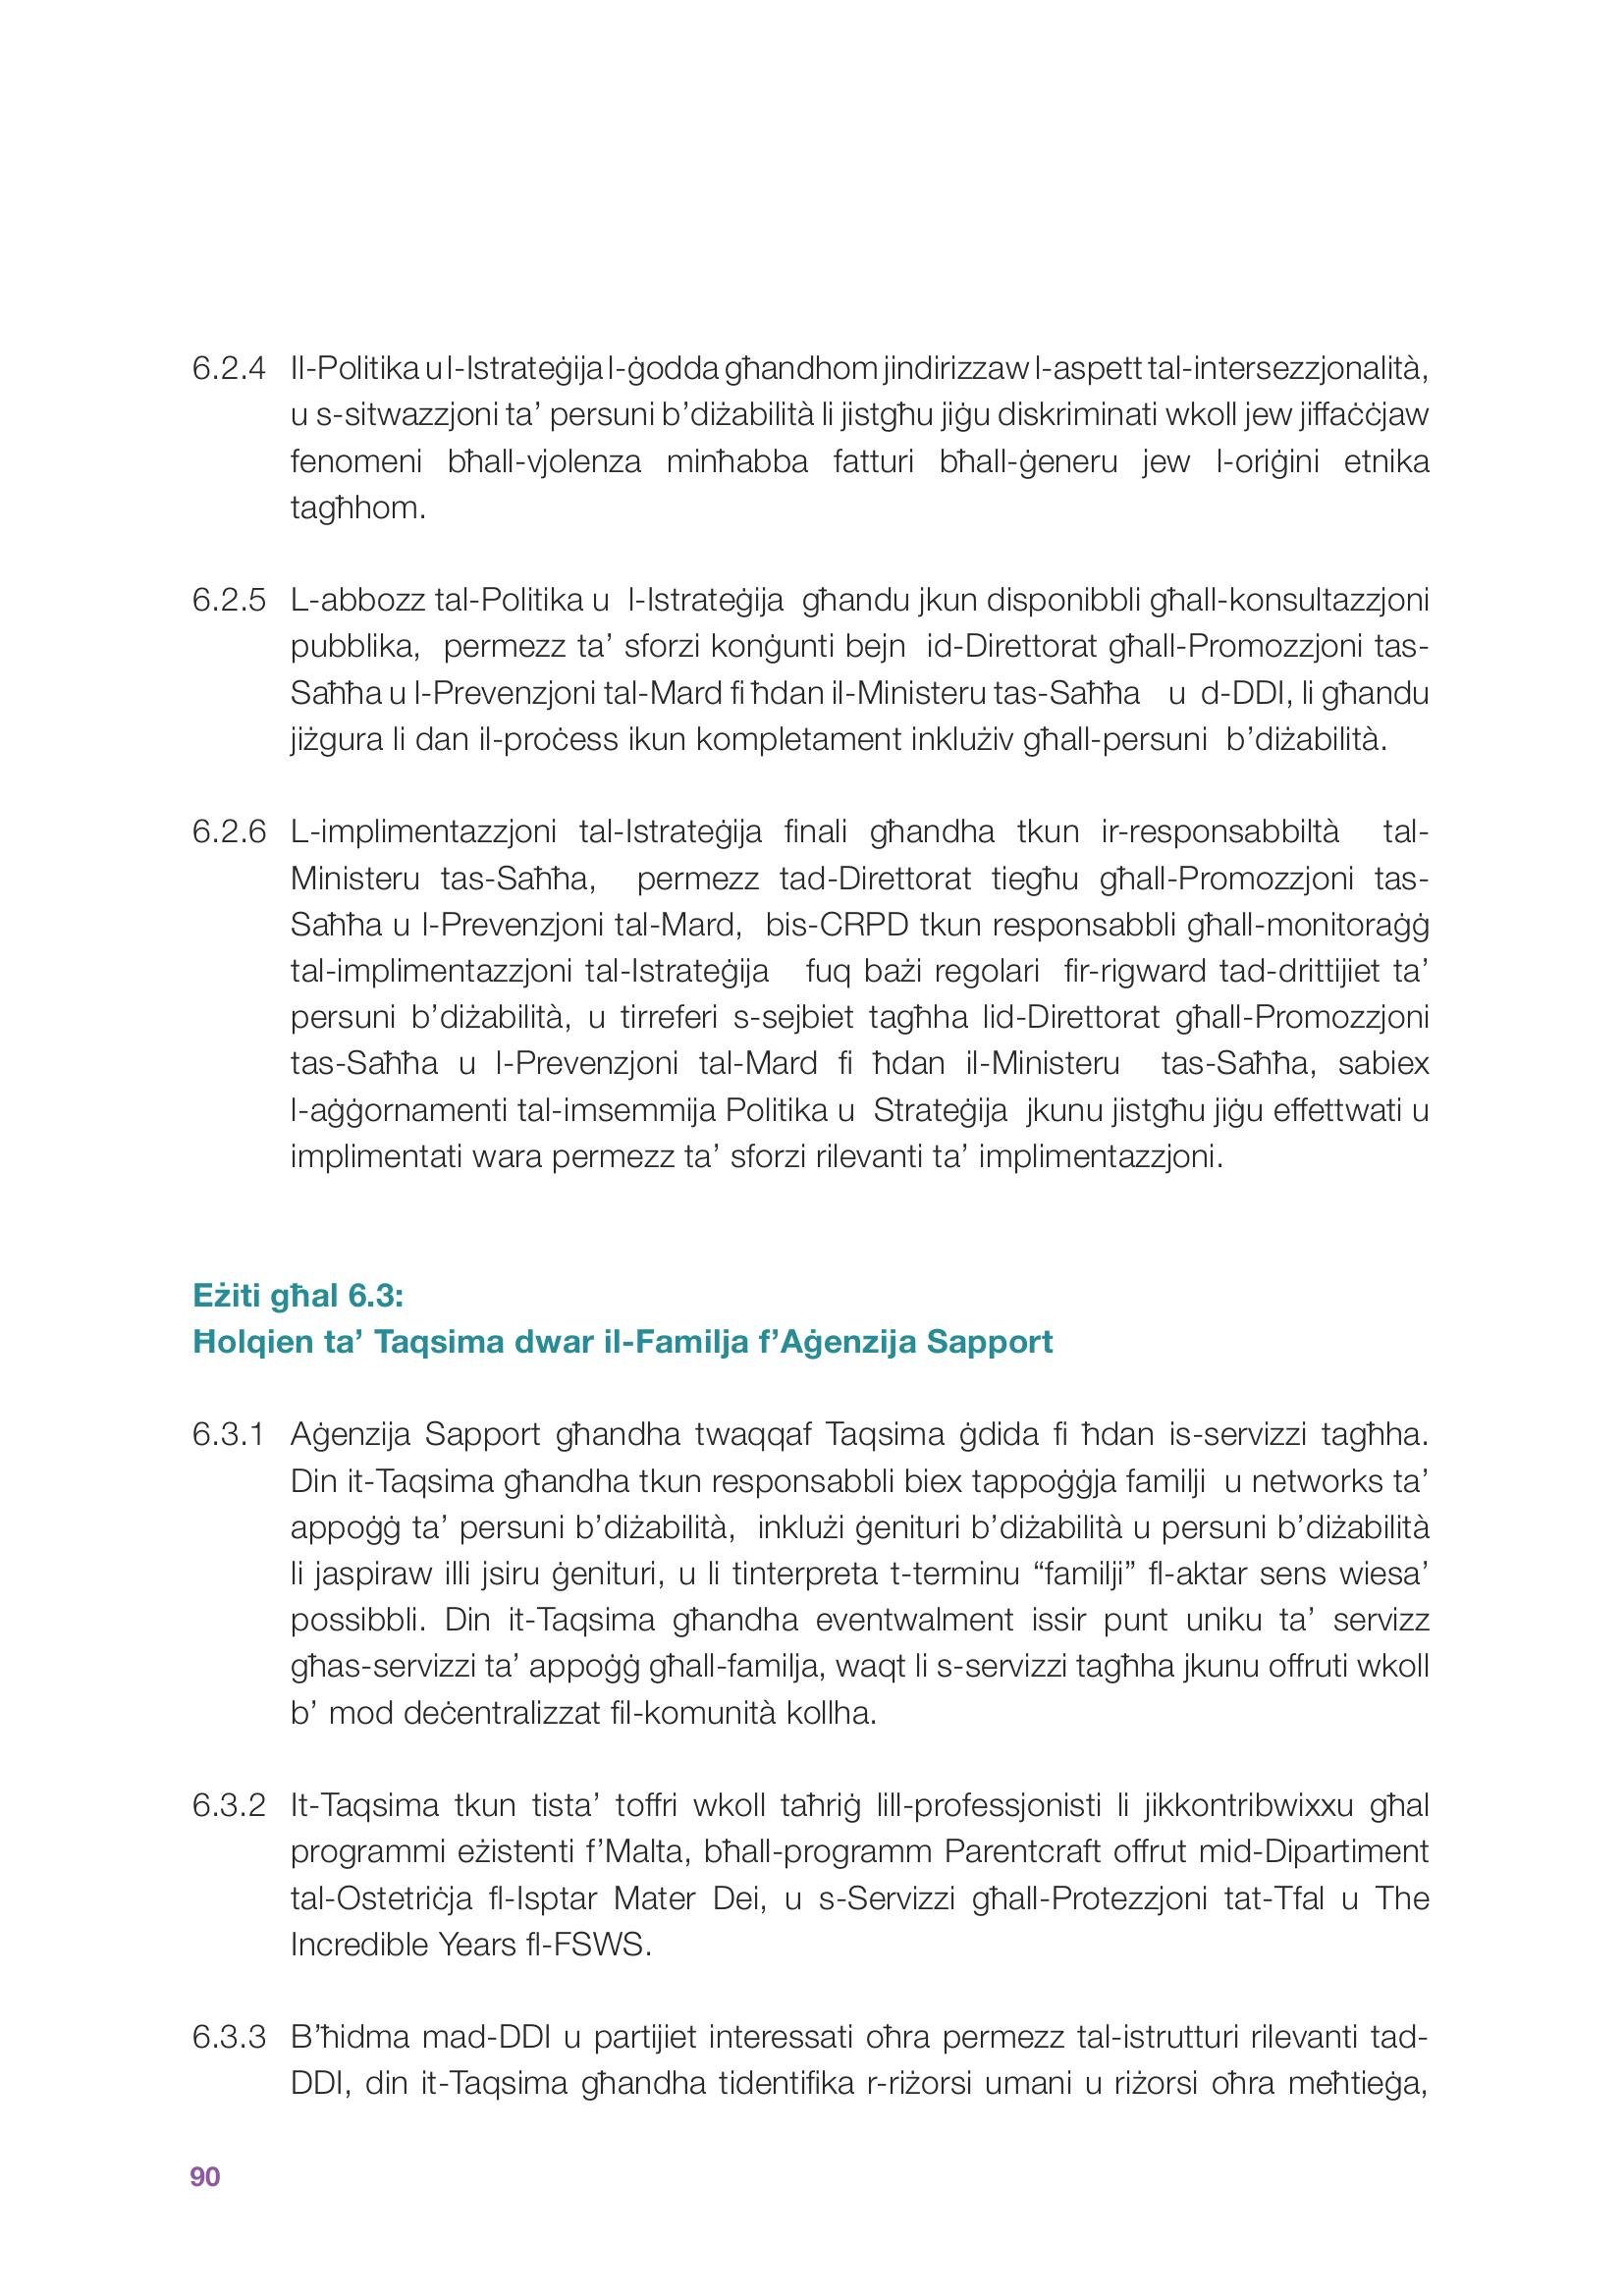text: (155, 327, 1455, 2126)
